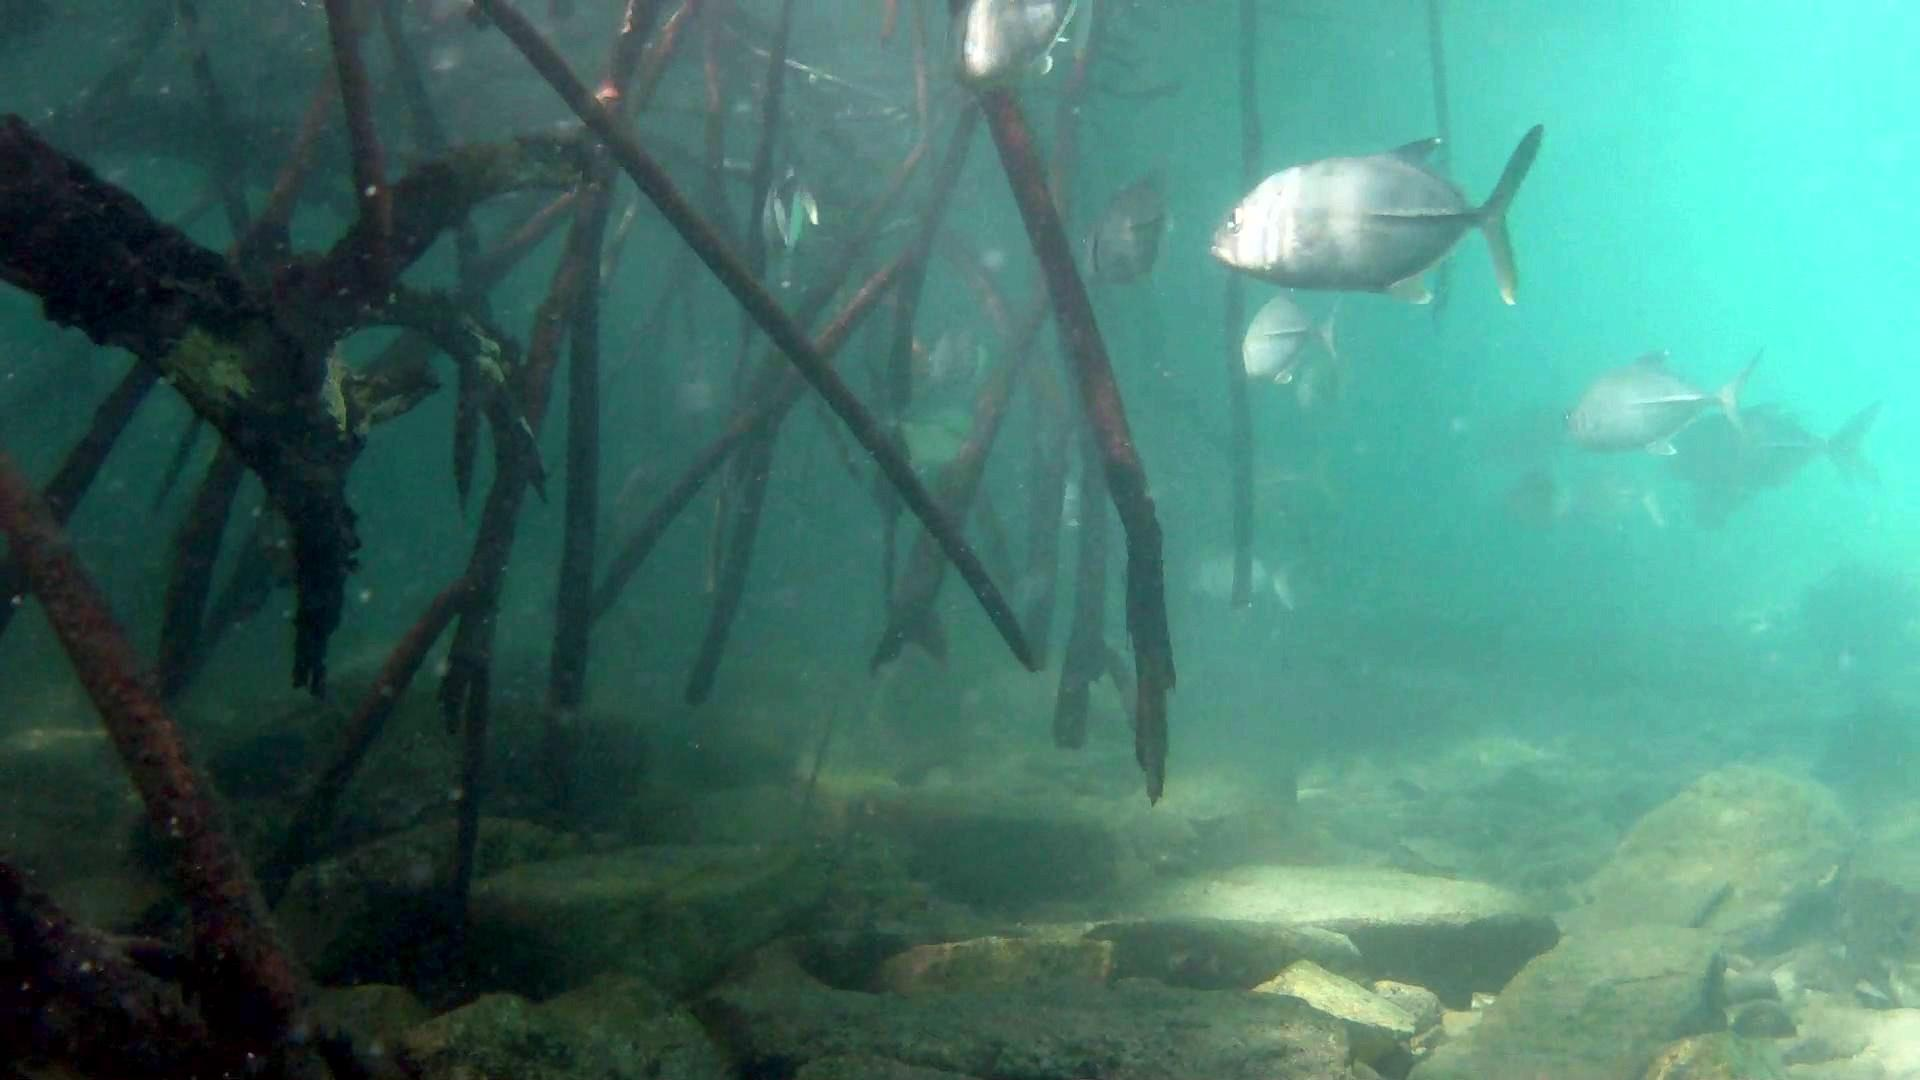caranx: (1203, 113, 1549, 315)
